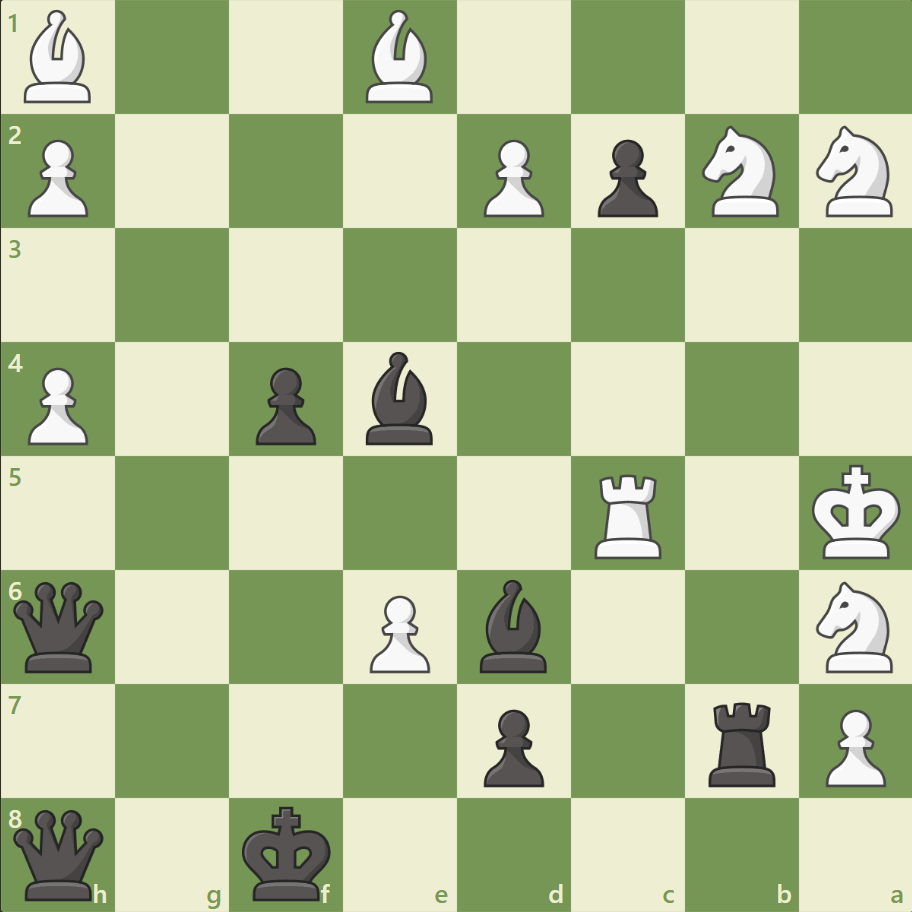B: (358, 6, 442, 109), (17, 6, 101, 109)
K: (806, 458, 906, 566)
N: (806, 575, 903, 677), (806, 121, 903, 223), (692, 121, 789, 223)
P: (20, 359, 95, 450), (474, 132, 549, 223), (20, 132, 95, 223), (815, 700, 889, 791), (361, 586, 435, 677)
R: (587, 466, 670, 563)
b: (471, 574, 555, 676), (358, 347, 442, 449)
k: (238, 798, 338, 906)
p: (474, 700, 549, 791), (247, 359, 322, 450), (588, 132, 662, 223)
q: (10, 576, 109, 676), (10, 804, 109, 903)
r: (700, 693, 783, 790)
